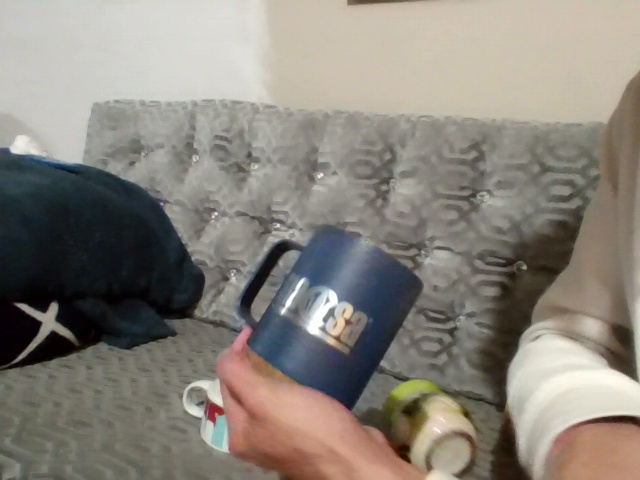botella: (225, 218, 397, 426), (371, 374, 473, 480), (174, 339, 257, 467)
